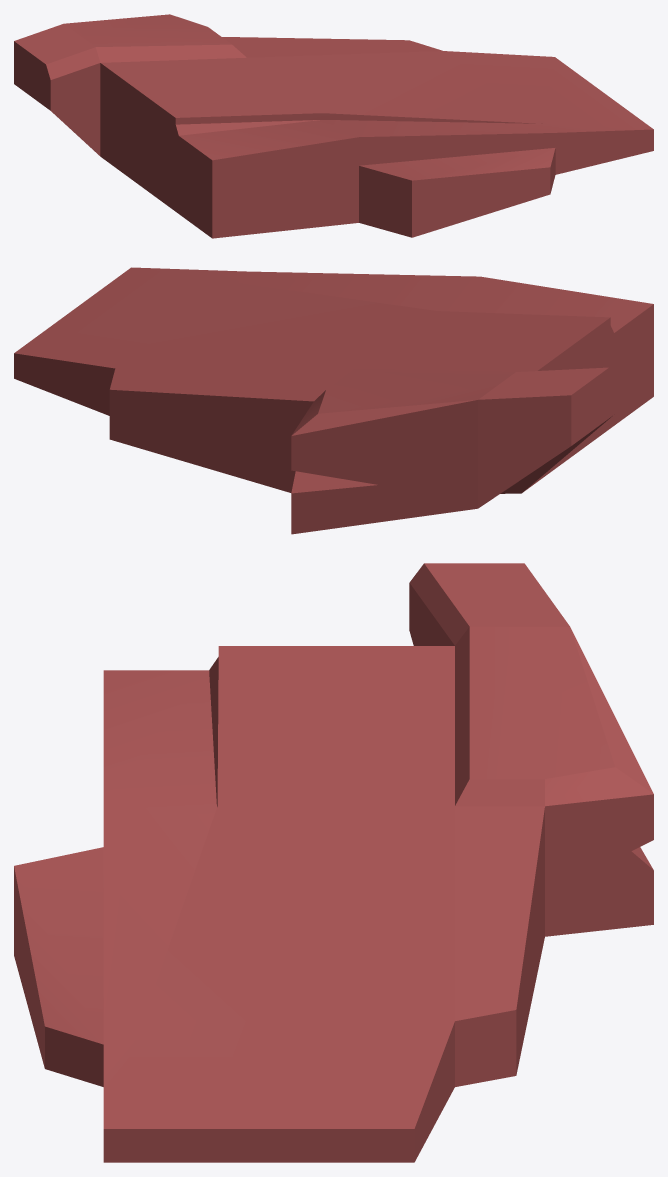
The model's file is SM_Flat_Stone_01.fbx.
The picture shows the model from 3 angles, top to bottom: view 1: azimuth 30°, elevation 25°; view 2: azimuth 150°, elevation 25°; view 3: azimuth 270°, elevation 25°; orthographic projection. The views are drawn at different scales.
Visible parts, largest first — view 1: Box034; view 2: Box034; view 3: Box034.
Boxes of the visible parts, bbox=[...] form: Box034: bbox=[14, 14, 653, 238]; Box034: bbox=[14, 267, 653, 534]; Box034: bbox=[14, 563, 653, 1162].
Size of the model in its own units: 261 by 66.59 by 182.
